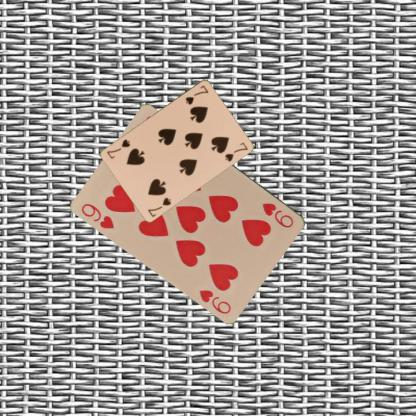7s: (145, 194, 172, 219), (182, 82, 210, 106)
9h: (78, 200, 116, 230), (260, 200, 296, 229)
